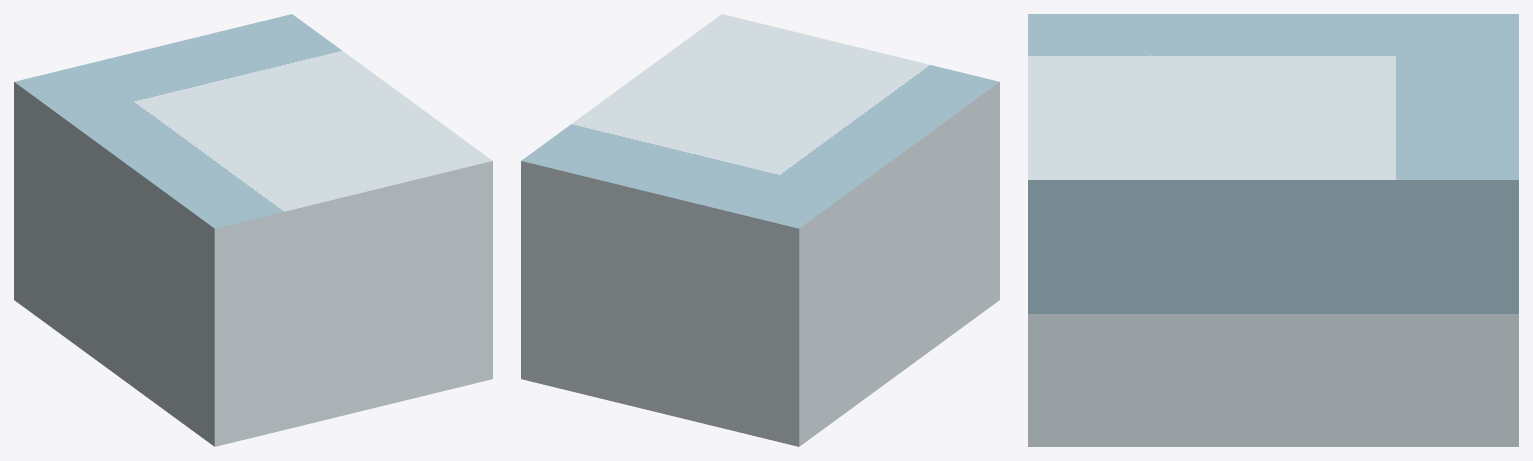
Rendered from SewerCover (1).fbx.
3 renders of one model, left to right at view 1: azimuth 30°, elevation 25°; view 2: azimuth 150°, elevation 25°; view 3: azimuth 270°, elevation 25°, orthographic. The views are drawn at different scales.
Visible parts, largest first — view 1: cuboid; view 2: cuboid; view 3: cuboid.
Boxes of the visible parts, box(x1,y1,x2,y2) form: cuboid: box(14, 14, 492, 446); cuboid: box(521, 14, 999, 446); cuboid: box(1028, 14, 1518, 446).
Bounding box in the file's own units: 100 × 75 × 125.
2 materials, 2 textured.
